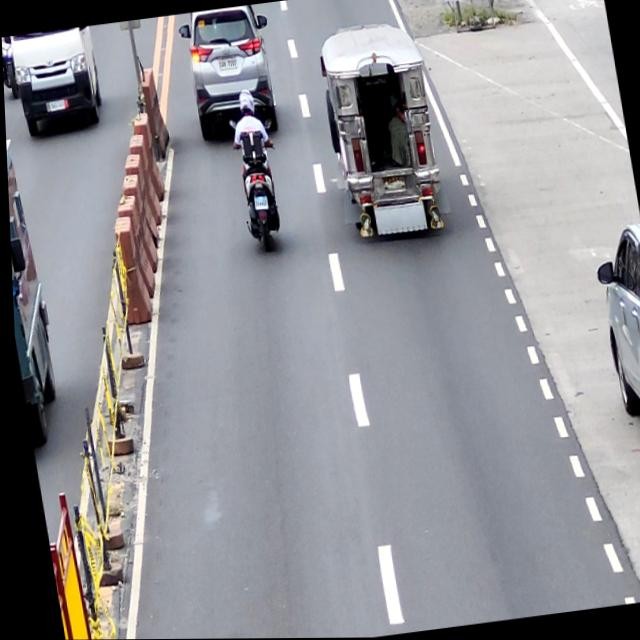Car: (175, 3, 283, 145), (584, 218, 640, 477)
Jeep: (308, 14, 451, 247)
License-Plate: (381, 178, 405, 194), (251, 193, 266, 213), (216, 57, 237, 71)
Motorcycle: (228, 109, 291, 261)
